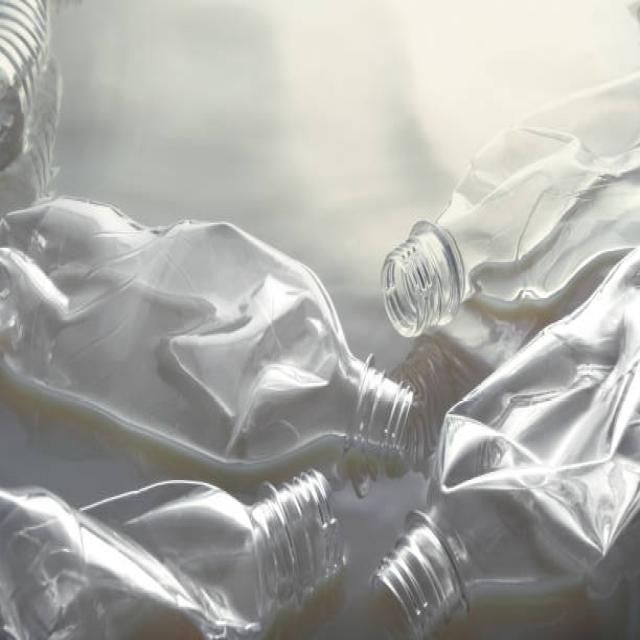plastic: (44, 208, 611, 628)
